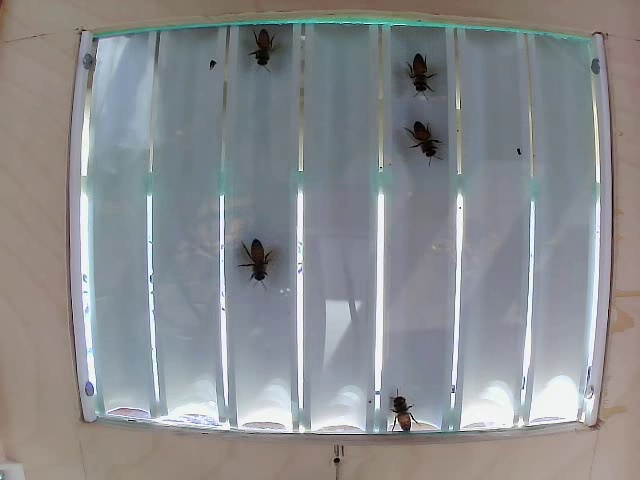bee: (226, 228, 287, 288), (375, 392, 432, 447), (412, 107, 446, 171), (409, 50, 444, 96), (247, 32, 283, 74)
